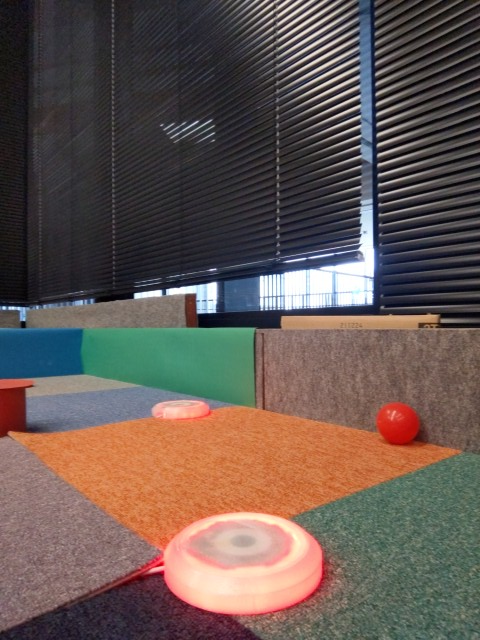r: (155, 509, 329, 616), (149, 394, 212, 423)
